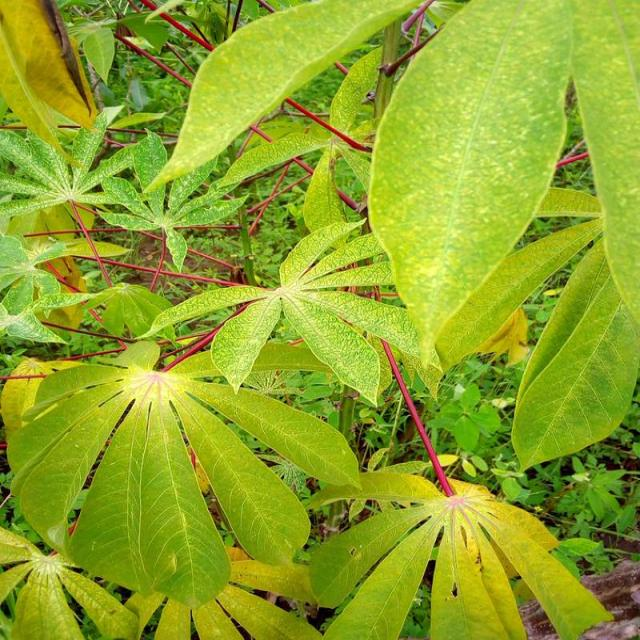cassava leaf: (6, 336, 360, 608), (366, 0, 574, 396), (142, 0, 425, 194), (308, 465, 614, 638)
